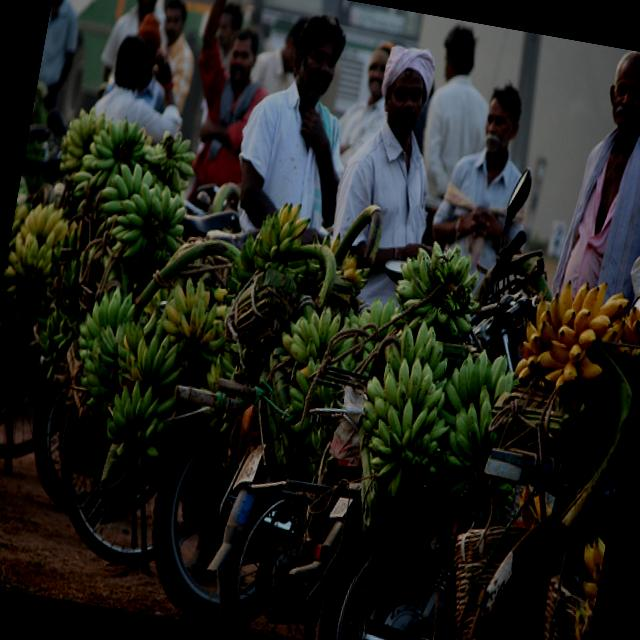Vehicle: (196, 125, 560, 640), (32, 0, 426, 176), (276, 479, 491, 640), (139, 420, 252, 620), (253, 0, 322, 57)
